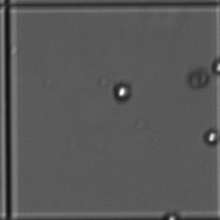Dead Cell: (188, 69, 209, 87)
Living Cell: (203, 129, 217, 144), (115, 85, 129, 99)
